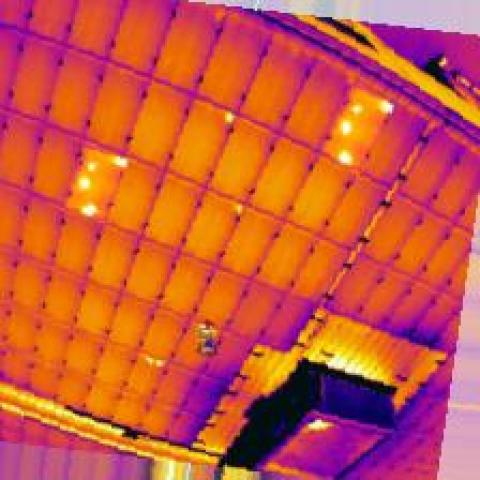fault: (140, 351, 172, 371), (107, 148, 131, 171), (375, 92, 396, 118), (77, 197, 99, 221), (334, 146, 356, 169), (221, 105, 240, 131), (338, 116, 356, 139), (81, 156, 101, 174), (347, 99, 364, 120), (75, 171, 90, 193), (232, 197, 246, 219)
